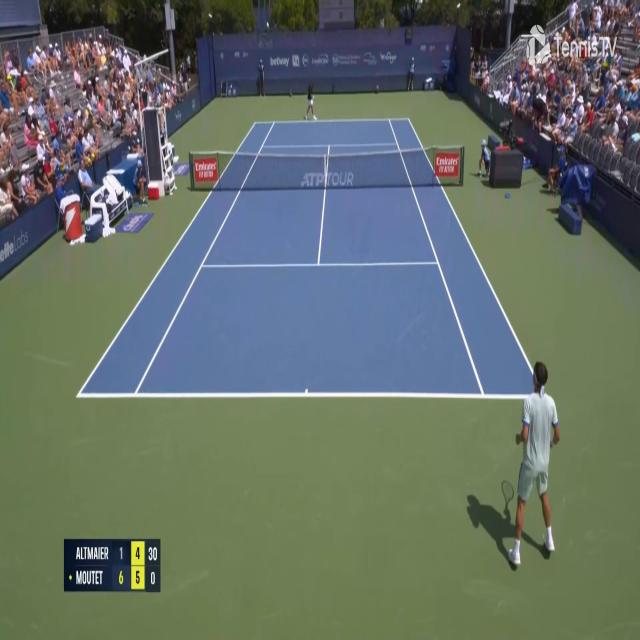tennis-player: (493, 361, 564, 572), (303, 78, 318, 122)
